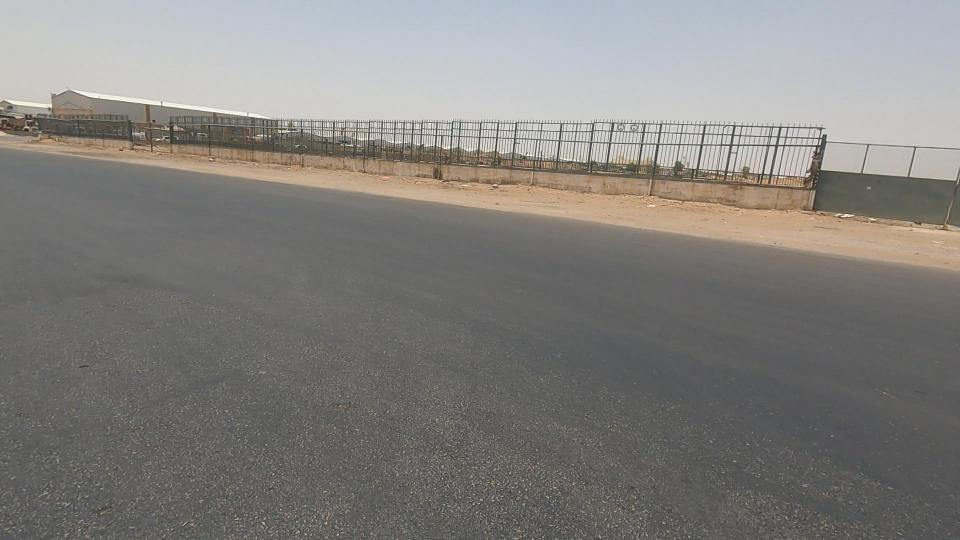GARBAGE: (802, 181, 880, 248), (616, 175, 688, 231)
